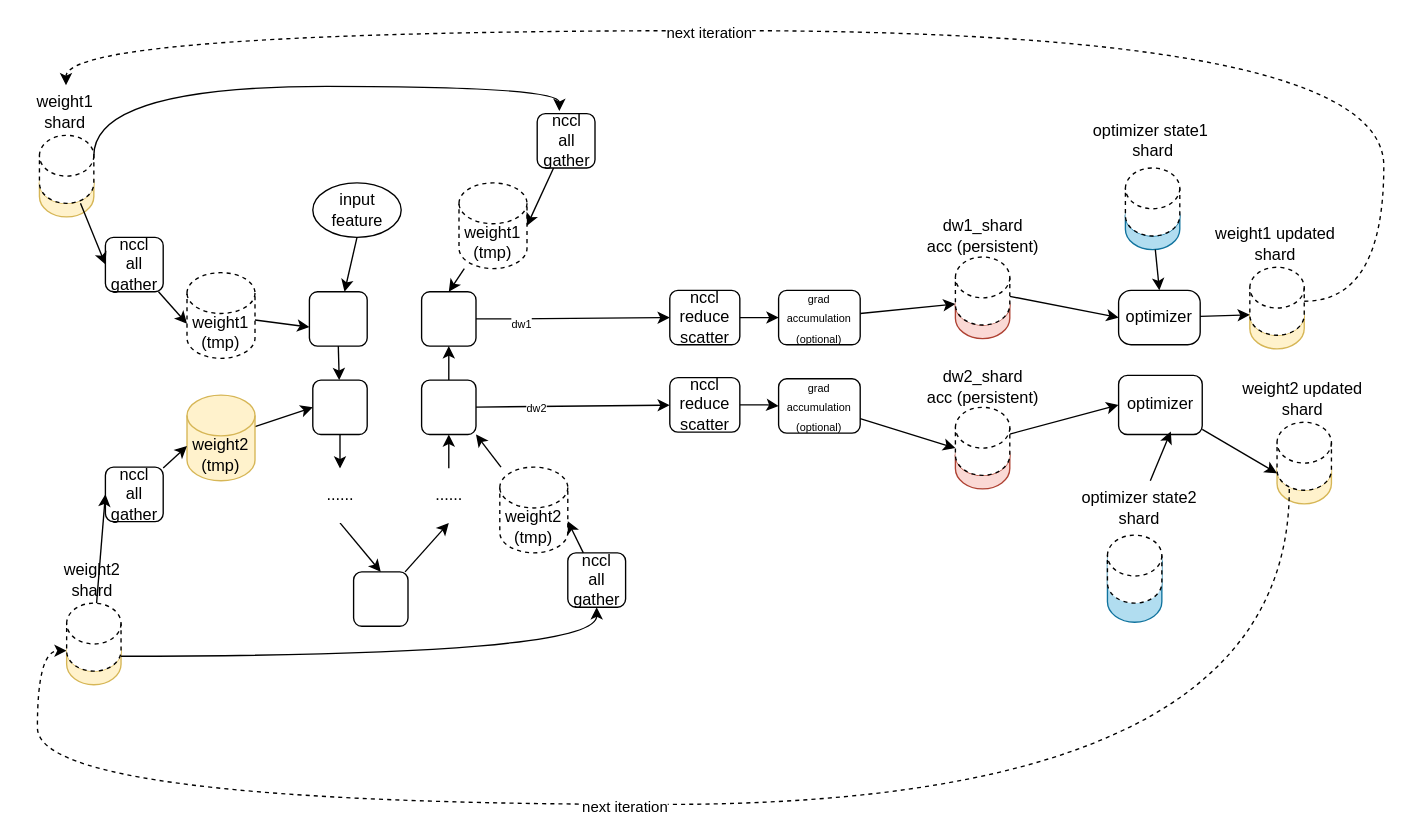
Some shapes in this 1408 by 838 pixel diagram are drawn without their labels. The box of each missing label's shape, as (x1, y1, x2, y2) in pixels:
loss: (352, 571, 408, 626)
OP1: (308, 290, 367, 346)
OP1 bwd: (420, 290, 476, 346)
OP2: (311, 379, 367, 435)
OP2 bwd: (420, 379, 476, 435)
